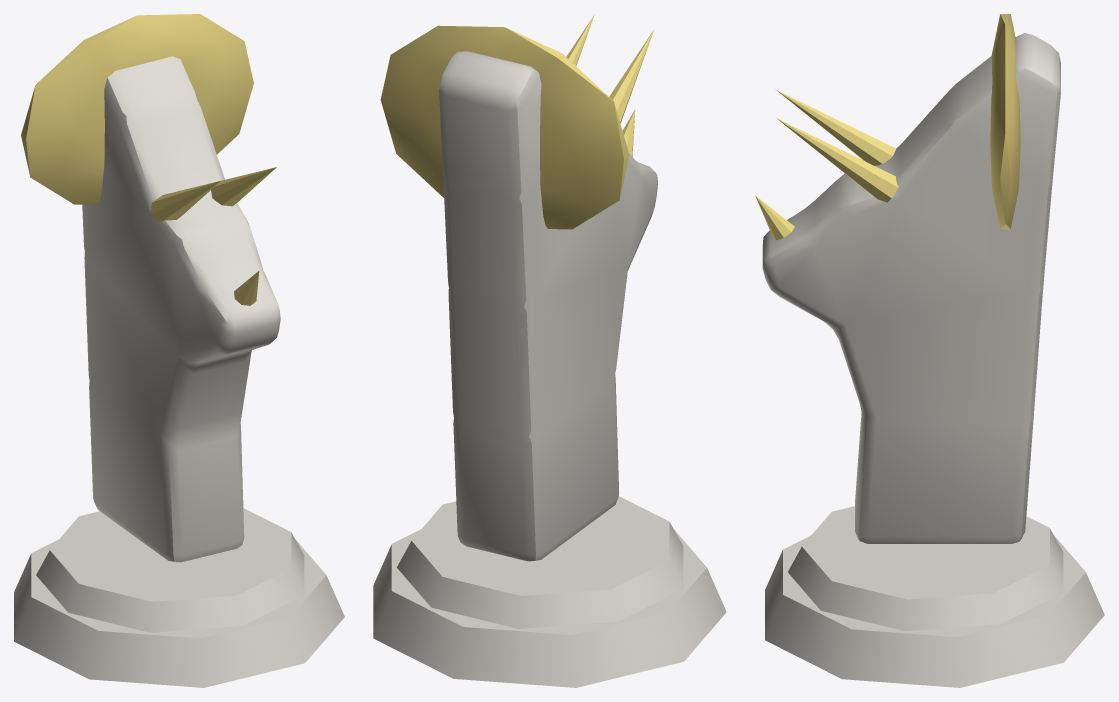
Rendered from HistoriaNatural_Dama.fbx.
3 views of the same model, side by side, from view 1: azimuth 30°, elevation 25°; view 2: azimuth 150°, elevation 25°; view 3: azimuth 270°, elevation 25° (orthographic). The views are drawn at different scales.
Parts seen in each view (by area): view 1: HistoriaNatural_Dama; view 2: HistoriaNatural_Dama; view 3: HistoriaNatural_Dama.
Boxes of the visible parts, x1=… form: HistoriaNatural_Dama: x1=14, y1=14, x2=344, y2=687; HistoriaNatural_Dama: x1=373, y1=15, x2=726, y2=687; HistoriaNatural_Dama: x1=755, y1=14, x2=1104, y2=687.
Bounding box in the file's own units: 0.7288 × 1.38 × 0.7388.
